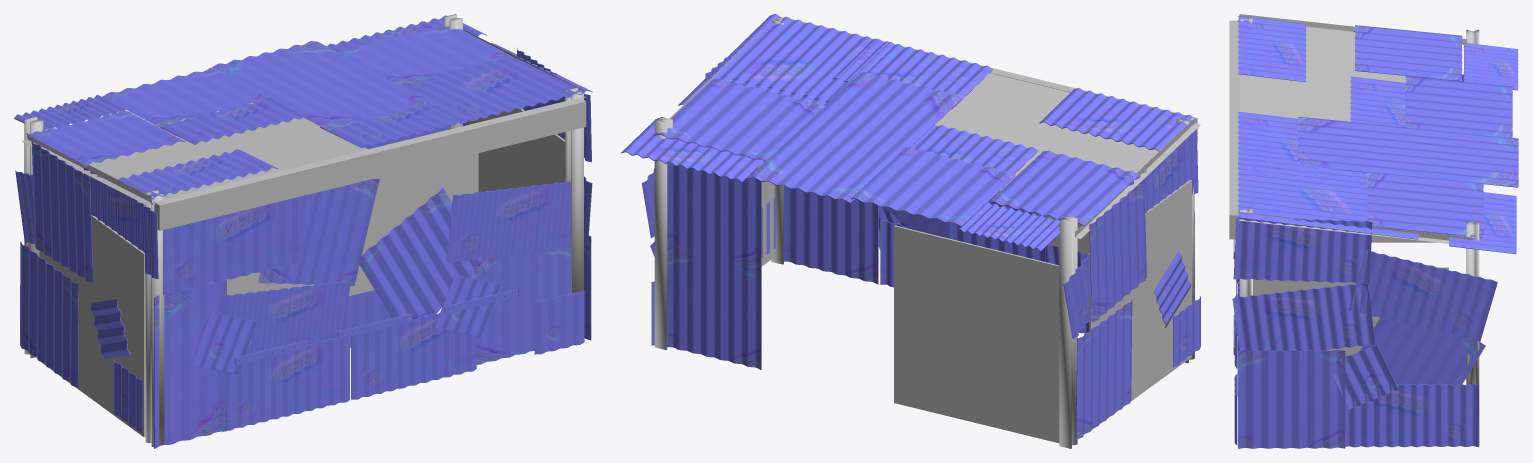
File: SlumHouse1.fbx
The picture shows the model from 3 angles, left to right: view 1: azimuth 30°, elevation 25°; view 2: azimuth 150°, elevation 25°; view 3: azimuth 270°, elevation 25°; orthographic projection. The views are drawn at different scales.
Parts seen in each view (by area): view 1: Support_5, Tin_sheet_4__12_, Tin_sheet_3__3_, Tin_sheet_1, Support_4__4_, Tin_sheet_4__2_, Tin_sheet_3__4_, Tin_sheet_3, Support_4__5_, Tin_sheet_3__1_, Tin_sheet_4__4_, Tin_sheet_4__1_ (+33 smaller); view 2: Support_4, Tin_sheet_4__12_, Tin_sheet_4, Support_4__5_, Tin_sheet_3__13_, Tin_sheet_4__7_, Support_4__4_, Tin_sheet_4__13_, Tin_sheet_4__11_, Tin_sheet_4__1_, Tin_sheet_4__10_, Tin_sheet_4__8_ (+21 smaller); view 3: Tin_sheet_4__12_, Tin_sheet_4__5_, Tin_sheet_3__7_, Tin_sheet_3__5_, Tin_sheet_3__8_, Tin_sheet_3__6_, Support_4__5_, Tin_sheet_3__13_, Tin_sheet_4__13_, Tin_sheet_4__11_, Tin_sheet_4__6_, Tin_sheet_4__10_ (+14 smaller).
Part boxes in pixels (x1=…): Support_5: x1=154, y1=97, x2=586, y2=230; Tin_sheet_4__12_: x1=212, y1=41, x2=433, y2=130; Tin_sheet_3__3_: x1=163, y1=196, x2=303, y2=295; Tin_sheet_1: x1=154, y1=280, x2=226, y2=448; Support_4__4_: x1=39, y1=215, x2=145, y2=437; Tin_sheet_4__2_: x1=359, y1=187, x2=489, y2=319; Tin_sheet_3__4_: x1=446, y1=181, x2=570, y2=262; Tin_sheet_3: x1=227, y1=337, x2=349, y2=430; Support_4__5_: x1=50, y1=100, x2=367, y2=204; Tin_sheet_3__1_: x1=351, y1=313, x2=476, y2=399; Tin_sheet_4__4_: x1=258, y1=178, x2=379, y2=286; Tin_sheet_4__1_: x1=474, y1=246, x2=570, y2=364; Support_4: x1=894, y1=225, x2=1059, y2=443; Tin_sheet_4__12_: x1=747, y1=72, x2=962, y2=203; Tin_sheet_4: x1=667, y1=246, x2=761, y2=369; Support_4__5_: x1=935, y1=73, x2=1195, y2=215; Tin_sheet_3__13_: x1=715, y1=14, x2=894, y2=102; Tin_sheet_4__7_: x1=667, y1=163, x2=761, y2=270; Support_4__4_: x1=1089, y1=180, x2=1191, y2=430; Tin_sheet_4__13_: x1=654, y1=79, x2=825, y2=161; Tin_sheet_4__11_: x1=850, y1=147, x2=1015, y2=226; Tin_sheet_4__1_: x1=784, y1=185, x2=878, y2=284; Tin_sheet_4__10_: x1=989, y1=150, x2=1138, y2=225; Tin_sheet_4__8_: x1=1076, y1=300, x2=1132, y2=439; Tin_sheet_4__12_: x1=1298, y1=116, x2=1518, y2=187; Tin_sheet_4__5_: x1=1238, y1=350, x2=1345, y2=448; Tin_sheet_3__7_: x1=1349, y1=251, x2=1497, y2=341; Tin_sheet_3__5_: x1=1232, y1=283, x2=1375, y2=355; Tin_sheet_3__8_: x1=1233, y1=217, x2=1372, y2=283; Tin_sheet_3__6_: x1=1345, y1=384, x2=1478, y2=447; Support_4__5_: x1=1237, y1=19, x2=1405, y2=121; Tin_sheet_3__13_: x1=1238, y1=157, x2=1356, y2=231; Tin_sheet_4__13_: x1=1367, y1=171, x2=1483, y2=237; Tin_sheet_4__11_: x1=1405, y1=76, x2=1512, y2=138; Tin_sheet_4__6_: x1=1360, y1=317, x2=1485, y2=429; Tin_sheet_4__10_: x1=1355, y1=25, x2=1462, y2=81.
Bounding box in the file's own units: 218 × 115 × 128.
